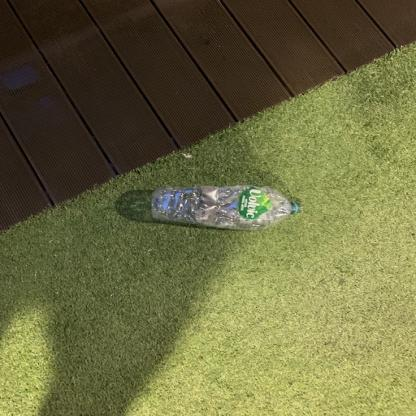trash: (147, 185, 306, 232)
